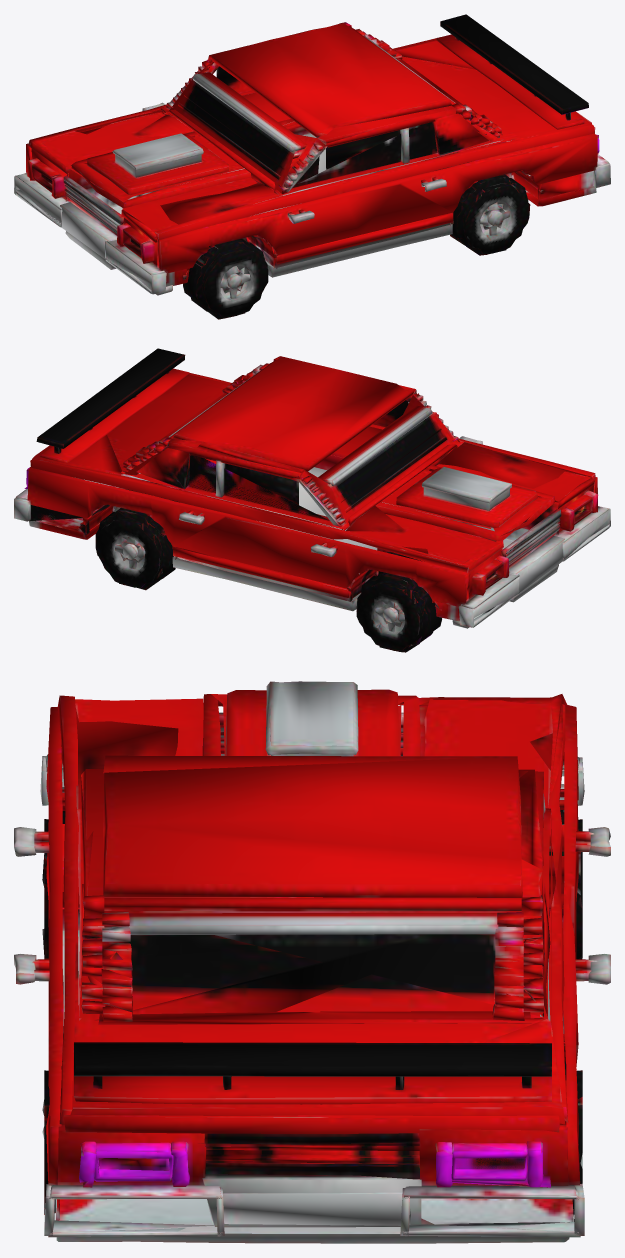
Rendered from coupe-red.glb.
The picture shows the model from 3 angles, top to bottom: view 1: azimuth 30°, elevation 25°; view 2: azimuth 150°, elevation 25°; view 3: azimuth 270°, elevation 25°; orthographic projection. The views are drawn at different scales.
Size of the model in its own units: 1 by 0.3223 by 0.5742.
1 material, 1 textured.
